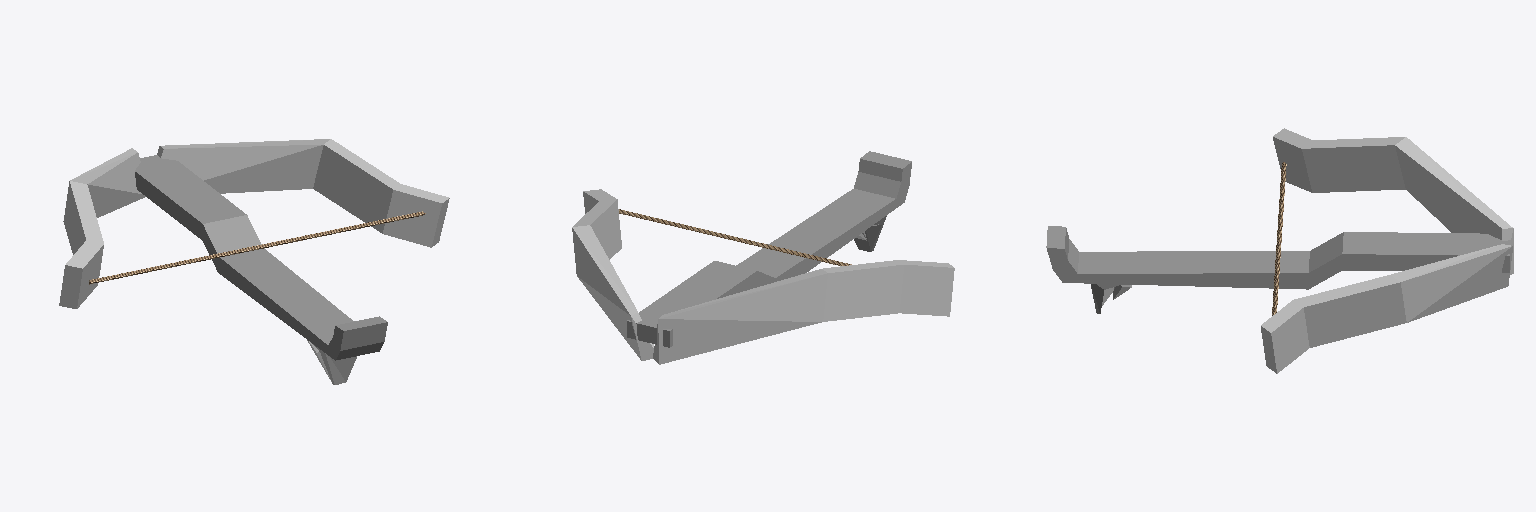
3 views of the same model, side by side, from view 1: azimuth 30°, elevation 25°; view 2: azimuth 150°, elevation 25°; view 3: azimuth 270°, elevation 25° (orthographic).
Parts seen in each view (by area): view 1: Cylinder; view 2: Cylinder; view 3: Cylinder.
Part boxes in pixels (left/top/right/bottom): Cylinder: left=59, top=139, right=449, bottom=384; Cylinder: left=572, top=151, right=954, bottom=364; Cylinder: left=1046, top=128, right=1513, bottom=373.
Size of the model in its own units: 3.39 by 1.01 by 3.62.
Materials: 4 (1 with a texture image).